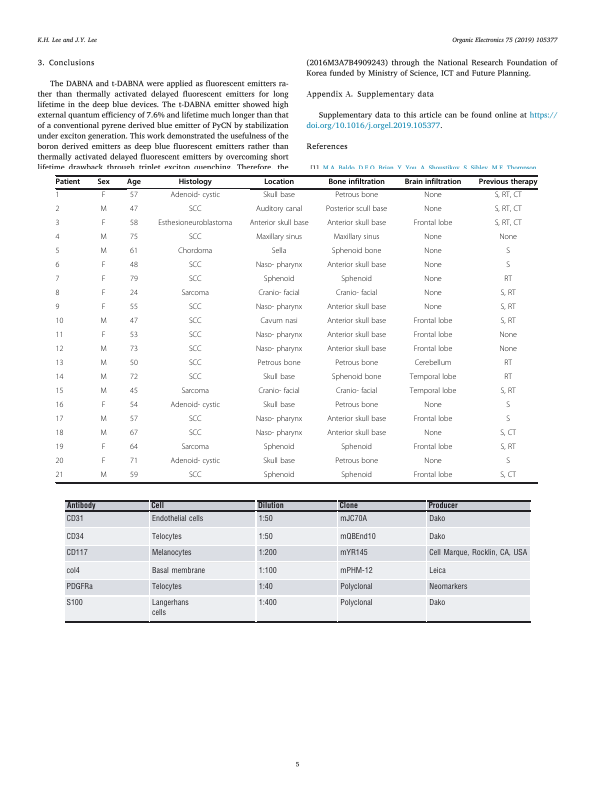borderless: (54, 174, 537, 482), (65, 499, 531, 621)
cell: (428, 548, 528, 558), (150, 598, 189, 618), (157, 219, 233, 229), (325, 205, 388, 215), (326, 219, 387, 229), (326, 261, 387, 271), (326, 303, 387, 313), (326, 317, 387, 327), (326, 331, 387, 341), (326, 345, 387, 355), (326, 415, 387, 425), (326, 429, 387, 439), (249, 219, 309, 229), (478, 178, 538, 187), (327, 178, 386, 187), (404, 178, 462, 187), (169, 191, 221, 201), (169, 401, 221, 411), (169, 457, 221, 467), (331, 247, 382, 257), (331, 373, 382, 383), (150, 566, 206, 575), (150, 514, 204, 523), (255, 205, 303, 215), (255, 233, 303, 243), (255, 261, 303, 271), (255, 303, 303, 313), (255, 331, 303, 341), (255, 345, 303, 355), (409, 373, 457, 383), (409, 387, 457, 397), (255, 415, 303, 425), (255, 429, 303, 439), (333, 233, 380, 243), (334, 191, 379, 201), (334, 359, 379, 369), (334, 401, 379, 411), (334, 457, 379, 467), (257, 289, 301, 299), (257, 359, 301, 369), (257, 387, 301, 397), (335, 289, 378, 299), (335, 387, 378, 397), (150, 548, 192, 558), (413, 219, 453, 229), (259, 317, 299, 327), (413, 317, 453, 327), (413, 331, 453, 341), (413, 345, 453, 355), (413, 415, 453, 425), (413, 443, 453, 453), (413, 471, 453, 481), (428, 582, 468, 592), (414, 359, 452, 369), (177, 247, 213, 257), (262, 191, 296, 201), (262, 373, 296, 383), (262, 401, 296, 411), (262, 457, 296, 467), (339, 582, 373, 592), (339, 598, 373, 608), (339, 532, 376, 541), (340, 275, 373, 285), (340, 443, 373, 453), (340, 471, 373, 481), (263, 275, 295, 285), (263, 443, 295, 453), (263, 471, 295, 481), (150, 582, 182, 592), (178, 178, 213, 187), (65, 501, 96, 511), (427, 501, 458, 511), (339, 566, 373, 575), (180, 289, 210, 299), (180, 387, 210, 397), (180, 443, 210, 453), (494, 191, 523, 201), (494, 205, 523, 215), (494, 219, 523, 229), (339, 548, 368, 558), (263, 178, 295, 187), (150, 532, 182, 541), (256, 501, 284, 511), (65, 582, 93, 592), (339, 514, 367, 523), (55, 178, 81, 187), (65, 548, 88, 558), (423, 191, 443, 201), (423, 205, 443, 215), (423, 233, 443, 243), (498, 233, 518, 243), (423, 247, 443, 257), (423, 261, 443, 271), (423, 275, 443, 285), (423, 289, 443, 299), (423, 303, 443, 313), (498, 331, 518, 341), (498, 345, 518, 355), (423, 401, 443, 411), (423, 429, 443, 439), (423, 457, 443, 467), (338, 501, 358, 511), (257, 548, 277, 558), (257, 598, 277, 608), (499, 429, 517, 439), (499, 471, 517, 481), (257, 566, 277, 575), (65, 598, 83, 608), (428, 598, 446, 608), (65, 514, 84, 523), (65, 532, 84, 541), (500, 289, 517, 299), (500, 303, 517, 313), (500, 317, 517, 327), (500, 387, 517, 397), (500, 443, 517, 453), (428, 514, 446, 523), (428, 532, 446, 541), (428, 566, 446, 575), (271, 247, 287, 257), (257, 582, 273, 592), (126, 178, 142, 187), (257, 514, 273, 523), (257, 532, 273, 541), (188, 205, 202, 215), (188, 233, 202, 243), (188, 261, 202, 271), (188, 275, 202, 285), (188, 303, 202, 313), (188, 317, 202, 327), (188, 331, 202, 341), (188, 345, 202, 355), (188, 359, 202, 369), (188, 373, 202, 383), (188, 415, 202, 425), (188, 429, 202, 439), (188, 471, 202, 481), (150, 501, 164, 511), (96, 178, 111, 187), (65, 566, 80, 575), (129, 191, 139, 201), (129, 205, 139, 215), (129, 219, 139, 229), (129, 233, 139, 243), (129, 247, 139, 257), (129, 261, 139, 271), (129, 275, 139, 285), (503, 275, 513, 285), (129, 289, 139, 299), (129, 303, 139, 313), (129, 317, 139, 327), (129, 331, 139, 341), (129, 345, 139, 355), (129, 359, 139, 369), (503, 359, 513, 369), (129, 373, 139, 383), (503, 373, 513, 383), (129, 387, 139, 397), (129, 401, 139, 411), (129, 415, 139, 425), (129, 429, 139, 439), (129, 443, 139, 453), (129, 457, 139, 467), (129, 471, 139, 481), (99, 205, 108, 215), (99, 233, 108, 243), (99, 247, 108, 257), (55, 317, 64, 327), (99, 317, 108, 327), (55, 331, 64, 341), (55, 345, 64, 355), (99, 345, 108, 355), (55, 359, 64, 369), (99, 359, 108, 369), (55, 373, 64, 383), (99, 373, 108, 383), (55, 387, 64, 397), (99, 387, 108, 397), (55, 401, 64, 411), (55, 415, 64, 425), (99, 415, 108, 425), (55, 429, 64, 439), (99, 429, 108, 439), (55, 443, 64, 453), (55, 457, 64, 467), (55, 471, 64, 481), (99, 471, 108, 481), (505, 247, 511, 257), (505, 261, 511, 271), (505, 401, 511, 411), (505, 415, 511, 425), (505, 457, 511, 467), (55, 191, 60, 201), (101, 191, 106, 201), (55, 205, 60, 215), (55, 219, 60, 229), (101, 219, 106, 229), (55, 233, 60, 243), (55, 247, 60, 257), (55, 261, 60, 271), (101, 261, 106, 271), (55, 275, 60, 285), (101, 275, 106, 285), (55, 289, 60, 299), (101, 289, 106, 299), (55, 303, 60, 313), (101, 303, 106, 313), (101, 331, 106, 341), (101, 401, 106, 411), (101, 443, 106, 453), (101, 457, 106, 467)
